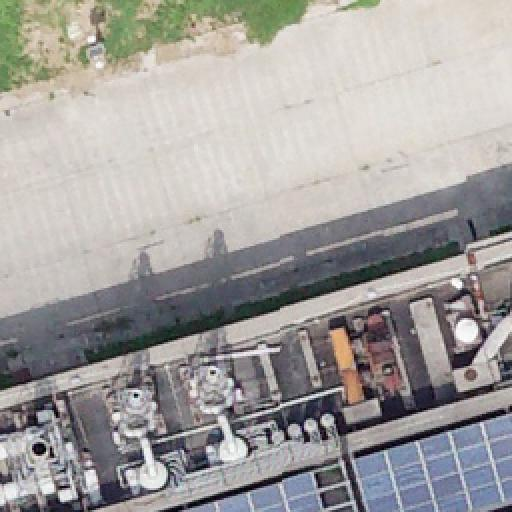solar-panel: (352, 416, 512, 512), (178, 472, 326, 512)
